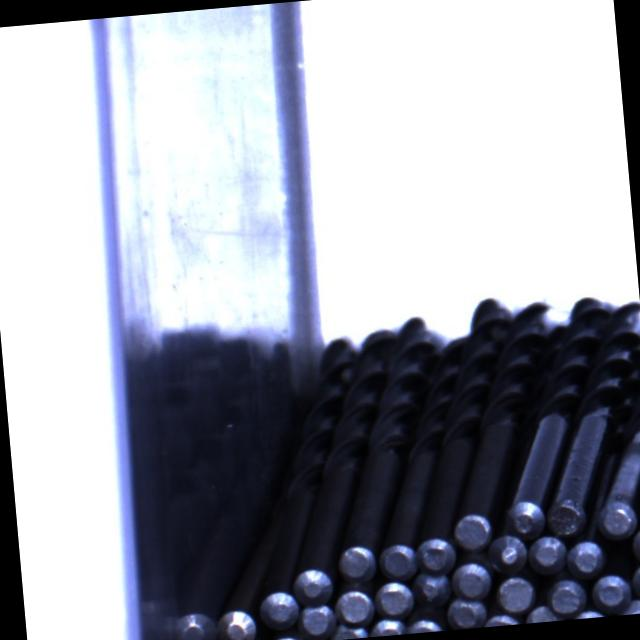tool: (596, 496, 640, 538), (258, 588, 301, 630), (336, 543, 378, 586), (527, 532, 569, 574), (590, 570, 632, 612), (546, 576, 588, 618), (566, 536, 608, 577), (374, 578, 416, 618), (452, 560, 494, 600), (415, 536, 457, 576), (453, 510, 495, 550), (292, 564, 333, 604), (496, 572, 536, 612), (333, 588, 374, 627), (548, 499, 589, 538), (379, 540, 419, 579), (508, 500, 546, 541), (447, 594, 489, 630), (297, 601, 336, 639), (215, 605, 257, 640), (490, 536, 529, 571), (414, 575, 452, 609), (475, 610, 522, 628), (368, 615, 406, 637), (524, 603, 564, 623), (405, 616, 447, 634), (326, 623, 368, 640), (568, 606, 610, 620), (613, 596, 640, 615), (631, 525, 640, 565), (632, 559, 640, 600), (266, 633, 306, 640)
